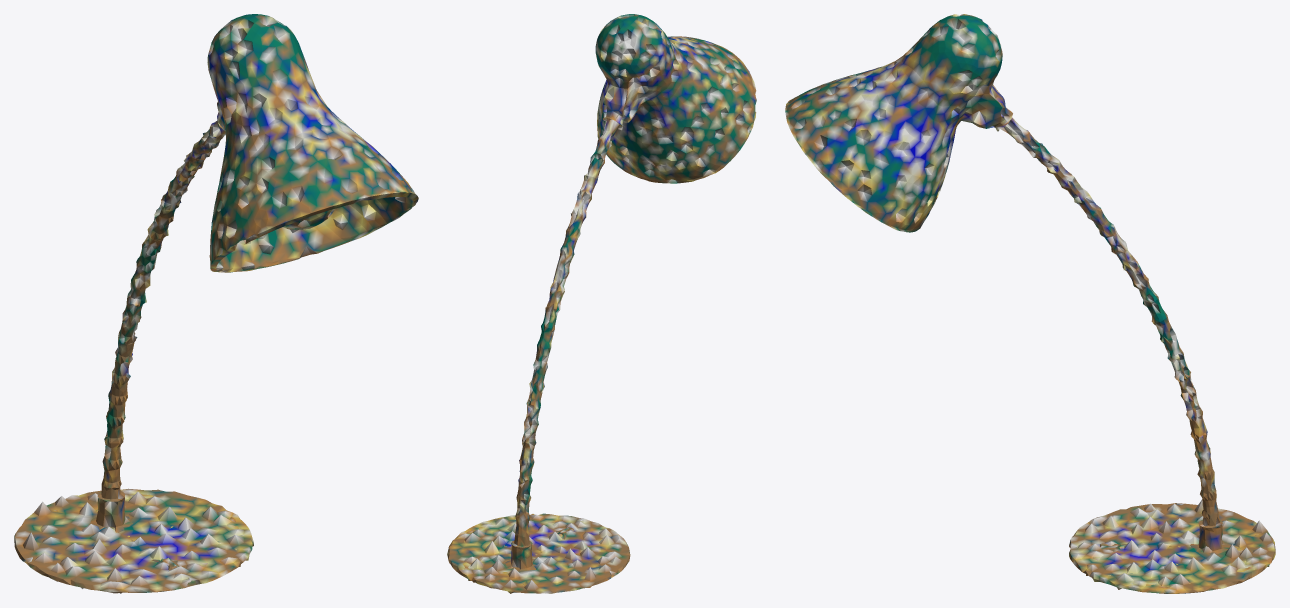
Rendered from lamp3_final300.obj.
3 renders of one model, left to right at view 1: azimuth 30°, elevation 25°; view 2: azimuth 150°, elevation 25°; view 3: azimuth 270°, elevation 25°, orthographic. The views are drawn at different scales.
Bounding box in the file's own units: 0.5413 × 1.55 × 1.28.
